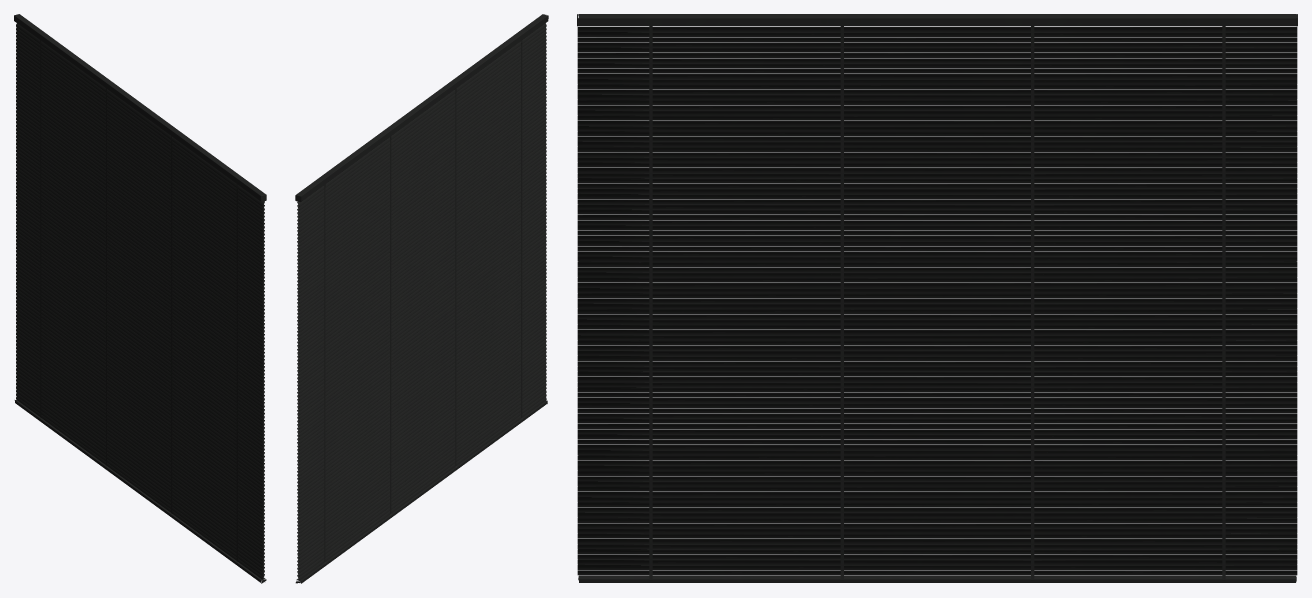
The model's file is blinds_window_4m_closed_a02.glb.
3 views of the same model, side by side, from view 1: azimuth 30°, elevation 25°; view 2: azimuth 150°, elevation 25°; view 3: azimuth 270°, elevation 25° (orthographic). The views are drawn at different scales.
Visible parts, largest first — view 1: geometry_0; view 2: geometry_0; view 3: geometry_0.
Boxes of the visible parts, left/top/right/bottom form: geometry_0: left=14, top=14, right=266, bottom=583; geometry_0: left=295, top=14, right=548, bottom=583; geometry_0: left=577, top=14, right=1297, bottom=582.
Bounding box in the file's own units: 0.00598 × 0.3641 × 0.42.
1 material, 1 textured.
